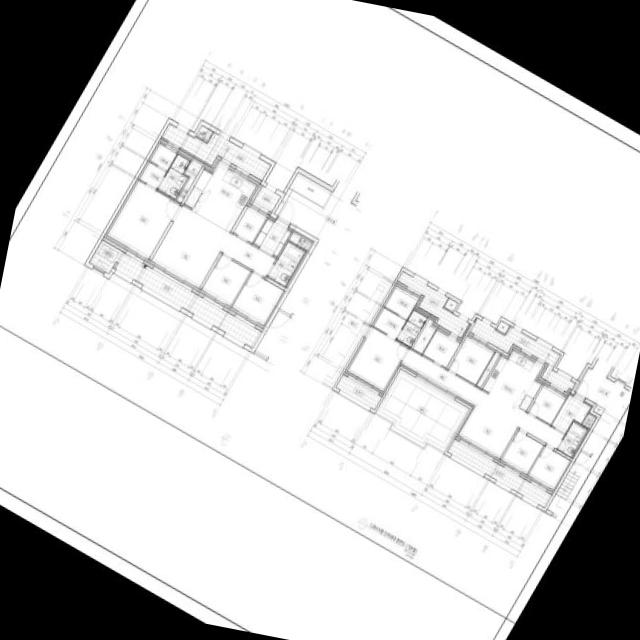background: (0, 0, 640, 640)
space_balconi: (114, 252, 261, 348), (469, 318, 575, 392), (447, 439, 551, 508), (161, 123, 270, 180), (397, 271, 469, 337), (335, 375, 381, 409), (253, 186, 280, 212)
space_bedroom: (103, 180, 179, 261), (344, 326, 409, 394), (230, 272, 285, 328), (200, 255, 250, 308), (448, 334, 495, 384), (526, 446, 571, 492), (500, 431, 543, 476), (528, 383, 567, 424)
space_dressroom: (139, 142, 176, 188), (383, 283, 421, 319), (371, 307, 405, 339)
space_elevator: (610, 367, 635, 388)
space_elevator_hall: (277, 181, 356, 314), (574, 358, 629, 454)
space_front: (551, 393, 592, 434), (253, 216, 292, 257)
space_kitchen: (183, 160, 260, 232), (482, 347, 545, 414)
space_living_room: (400, 348, 564, 460), (149, 205, 275, 290)
space_other: (422, 328, 461, 367), (289, 172, 331, 207), (233, 204, 268, 243), (176, 158, 203, 203), (476, 350, 500, 387), (412, 319, 436, 354), (288, 231, 313, 251), (274, 188, 291, 215), (196, 125, 212, 141), (582, 412, 596, 429), (444, 298, 457, 312), (496, 321, 509, 334), (593, 405, 604, 415)
space_outdoor_room: (89, 240, 123, 273)
space_staircase: (546, 451, 591, 515)
space_toilet: (267, 241, 305, 287), (157, 154, 190, 199), (396, 310, 427, 347), (557, 421, 587, 457)
